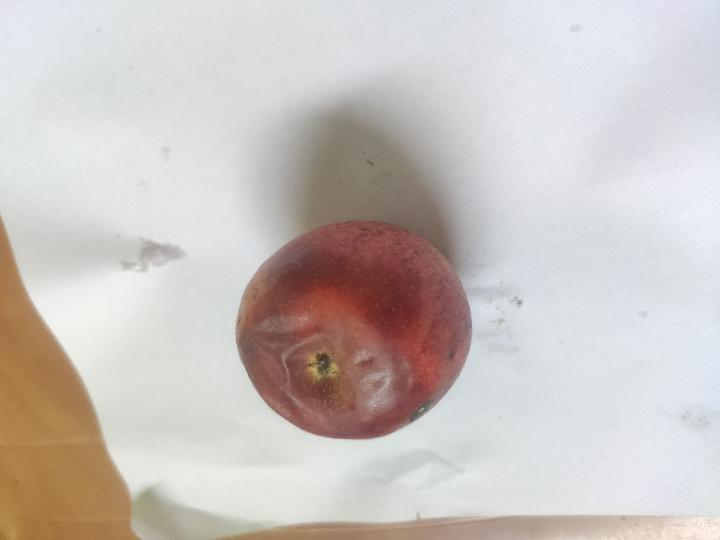apple: (236, 221, 472, 439)
bruise_discoloration: (239, 300, 415, 438)
